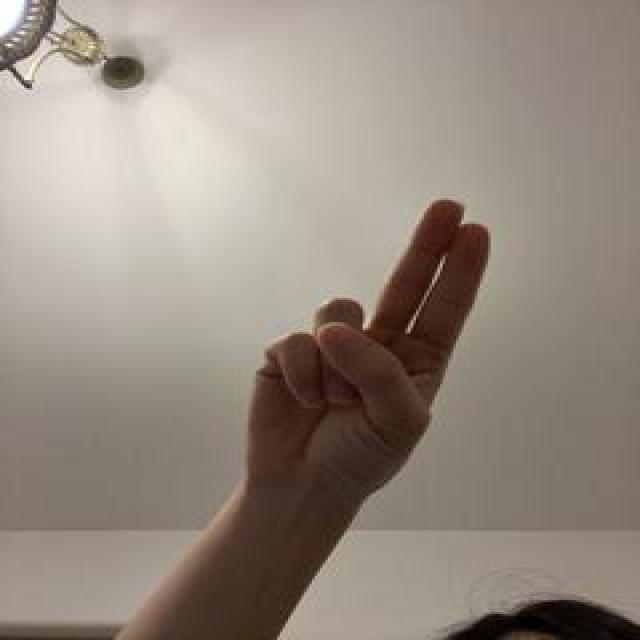U: (237, 199, 499, 497)
